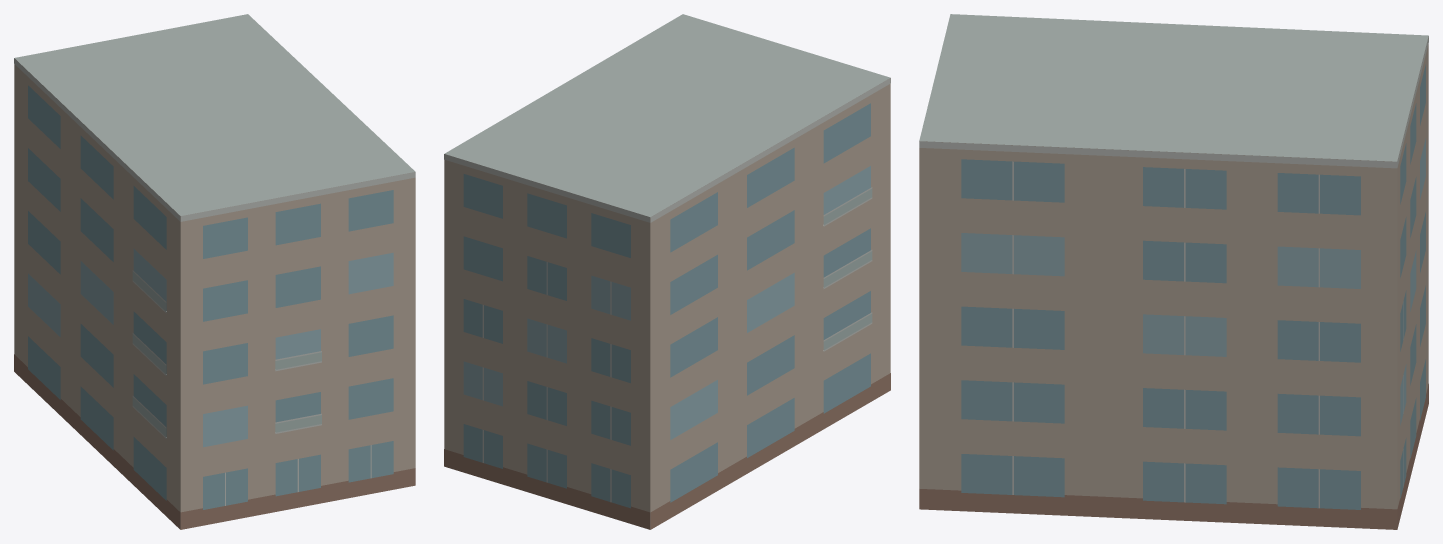
The model's file is survey-upis-32566629.glb.
3 views of the same model, side by side, from view 1: azimuth 30°, elevation 25°; view 2: azimuth 150°, elevation 25°; view 3: azimuth 270°, elevation 25° (orthographic). The views are drawn at different scales.
Parts seen in each view (by area): view 1: survey-upis-32566629.tmp; view 2: survey-upis-32566629.tmp; view 3: survey-upis-32566629.tmp.
Part boxes in pixels (x1=…): survey-upis-32566629.tmp: x1=14, y1=14, x2=415, y2=529; survey-upis-32566629.tmp: x1=444, y1=14, x2=890, y2=529; survey-upis-32566629.tmp: x1=919, y1=14, x2=1428, y2=529.
Size of the model in its own units: 11.45 by 13.3 by 16.69.
